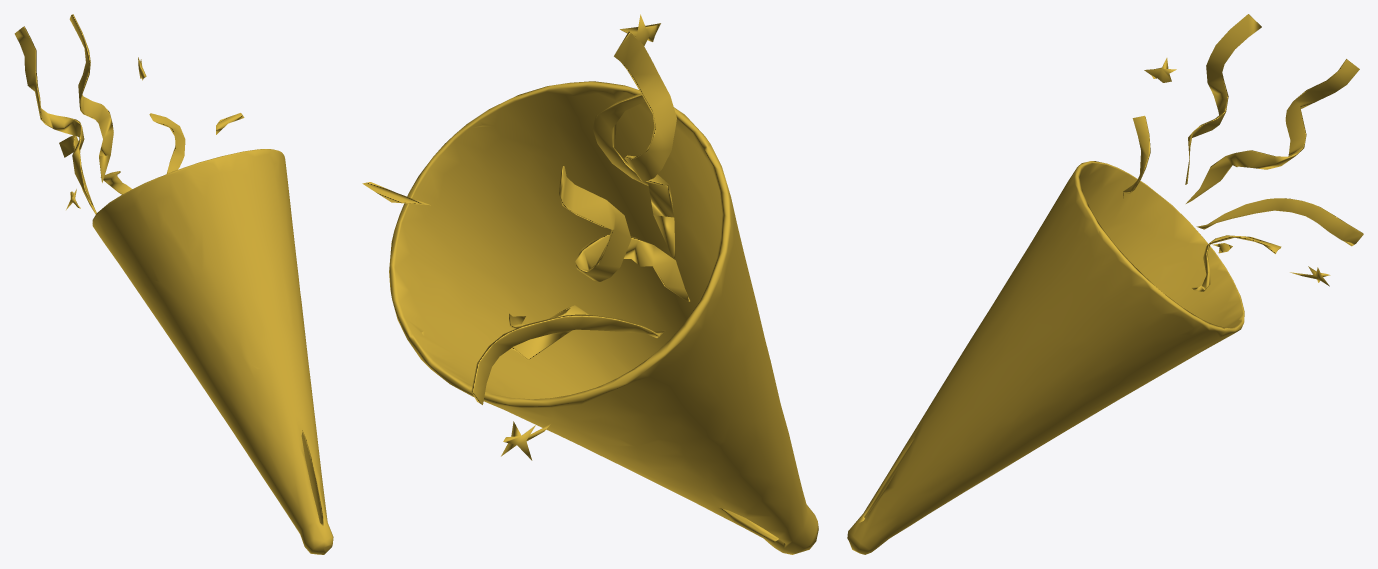
Rendered from popper.glb.
The picture shows the model from 3 angles, left to right: view 1: azimuth 30°, elevation 25°; view 2: azimuth 150°, elevation 25°; view 3: azimuth 270°, elevation 25°; orthographic projection. The views are drawn at different scales.
Parts seen in each view (by area): view 1: tripo_node_689d50fa-d3c0-496b-ac42-c646d3ce74e9; view 2: tripo_node_689d50fa-d3c0-496b-ac42-c646d3ce74e9; view 3: tripo_node_689d50fa-d3c0-496b-ac42-c646d3ce74e9.
Boxes of the visible parts, x1,y1,x2,y2 form: tripo_node_689d50fa-d3c0-496b-ac42-c646d3ce74e9: (14, 14, 333, 554); tripo_node_689d50fa-d3c0-496b-ac42-c646d3ce74e9: (362, 14, 818, 554); tripo_node_689d50fa-d3c0-496b-ac42-c646d3ce74e9: (847, 14, 1363, 554).
Size of the model in its own units: 0.4407 by 1 by 0.9416.
